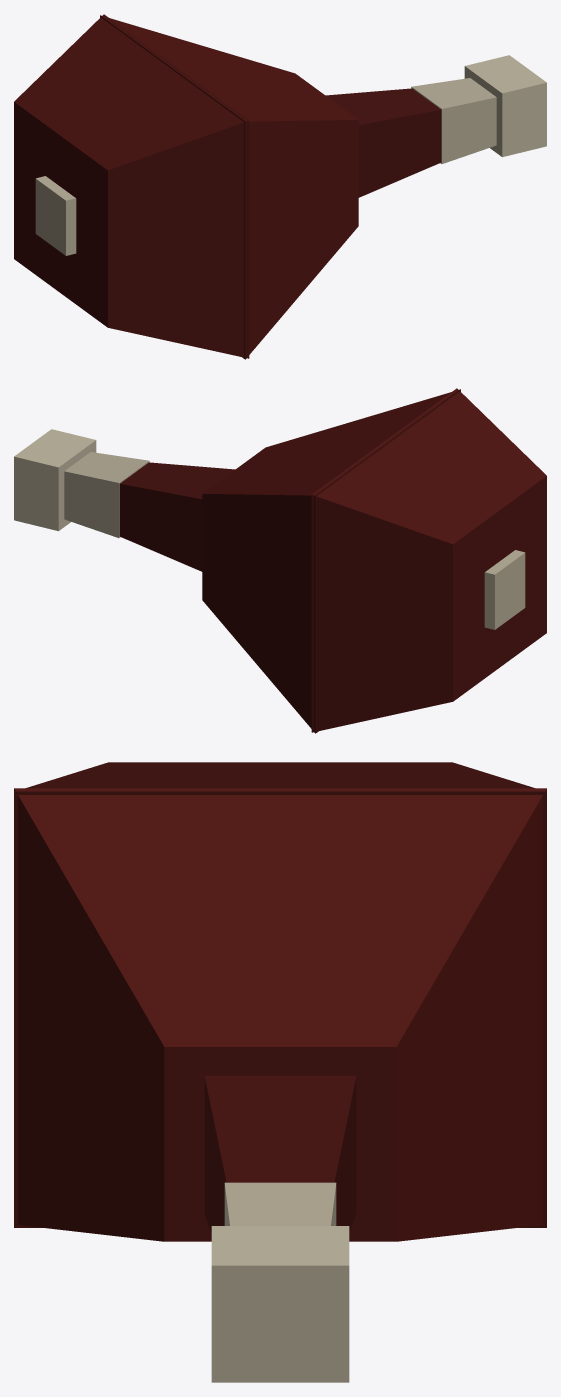
File: MeatHaunch.glb
3 renders of one model, top to bottom at view 1: azimuth 30°, elevation 25°; view 2: azimuth 150°, elevation 25°; view 3: azimuth 270°, elevation 25°, orthographic. The views are drawn at different scales.
Visible parts, largest first — view 1: MeatHaunch; view 2: MeatHaunch; view 3: MeatHaunch.
Boxes of the visible parts, x1,y1,x2,y2 form: MeatHaunch: (14,14,546,359); MeatHaunch: (14,388,546,733); MeatHaunch: (14,762,546,1382).
Size of the model in its own units: 0.47 by 0.224 by 0.248.
